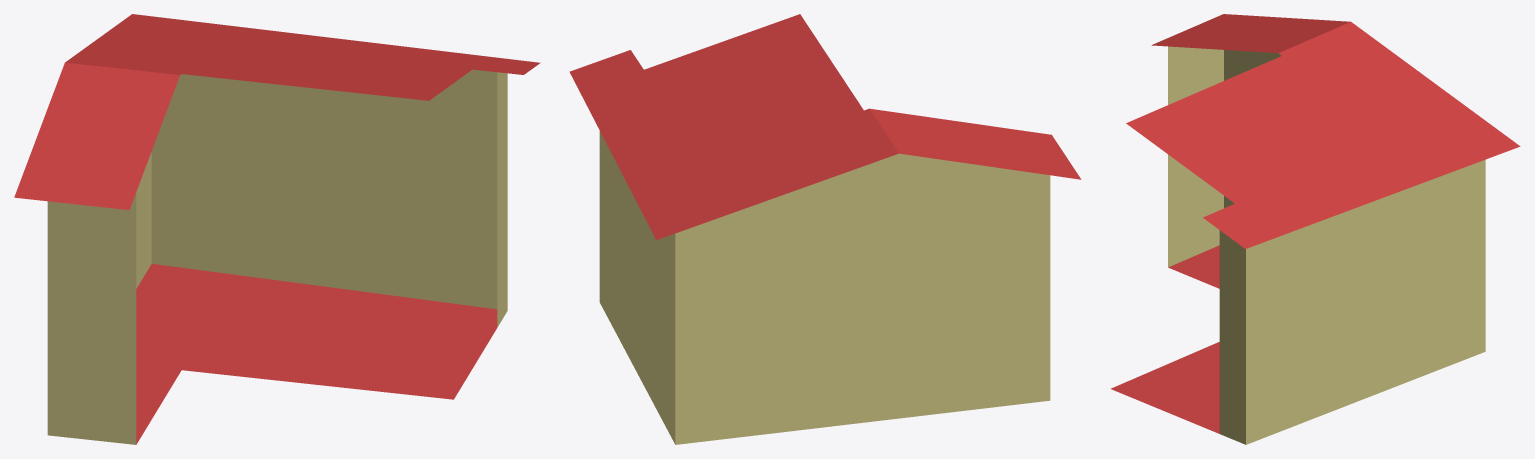
The picture shows the model from 3 angles, left to right: view 1: azimuth 30°, elevation 25°; view 2: azimuth 150°, elevation 25°; view 3: azimuth 270°, elevation 25°; orthographic projection. The views are drawn at different scales.
Bounding box in the file's own units: 16.99 × 12.81 × 8.96.
